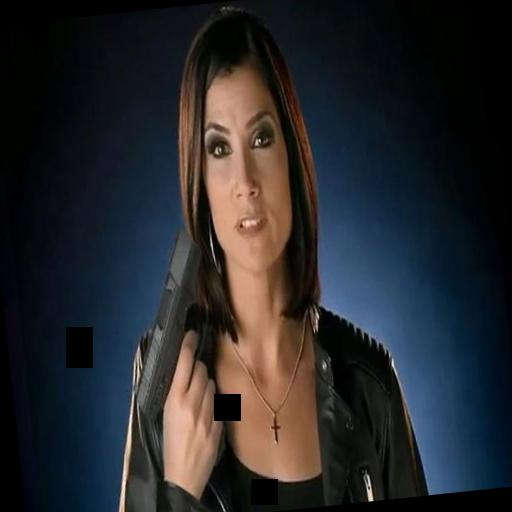Handgun: (108, 230, 234, 474)
